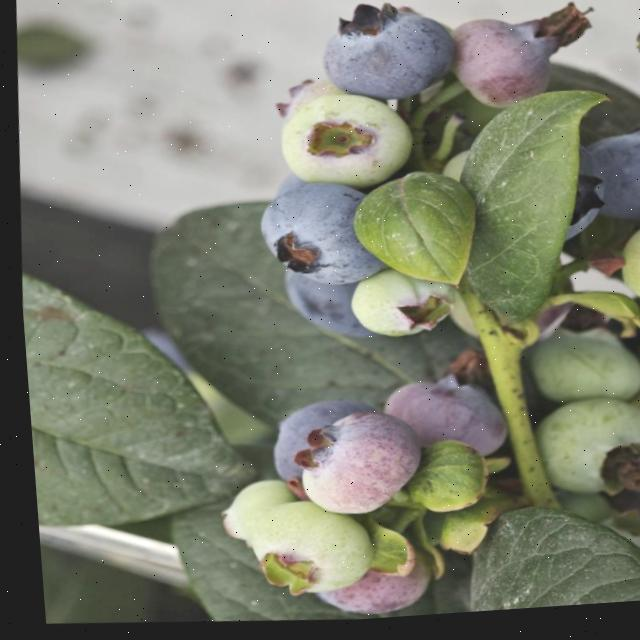RipeBlueBerry: (314, 4, 461, 113), (248, 183, 387, 297), (575, 134, 640, 236)
Semi-RipeBlueBerry: (284, 409, 419, 526), (373, 375, 508, 478), (447, 18, 566, 122)
UnripeBlueBerry: (275, 91, 417, 196), (234, 497, 370, 603), (524, 399, 640, 513), (517, 328, 640, 417), (340, 271, 451, 346)
